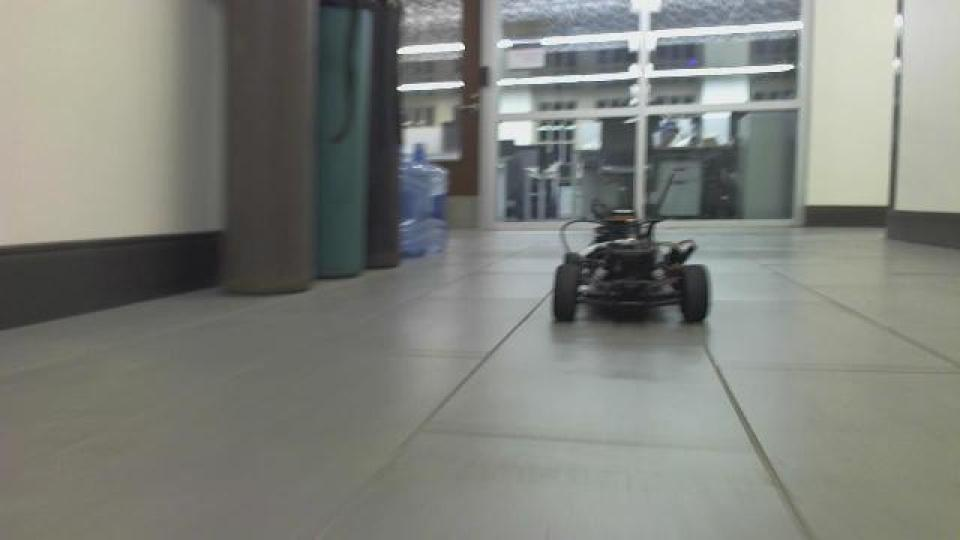car: (548, 168, 712, 327)
